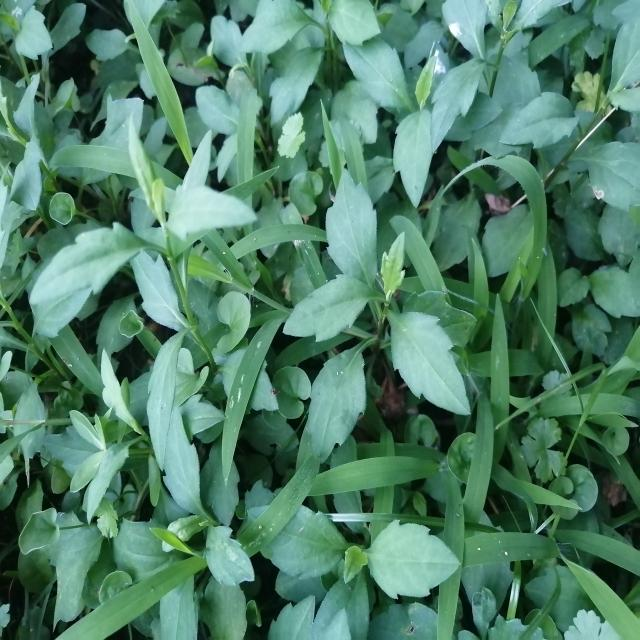Indian aster: (37, 144, 225, 452), (304, 185, 467, 446), (250, 471, 438, 640), (348, 24, 510, 191)
